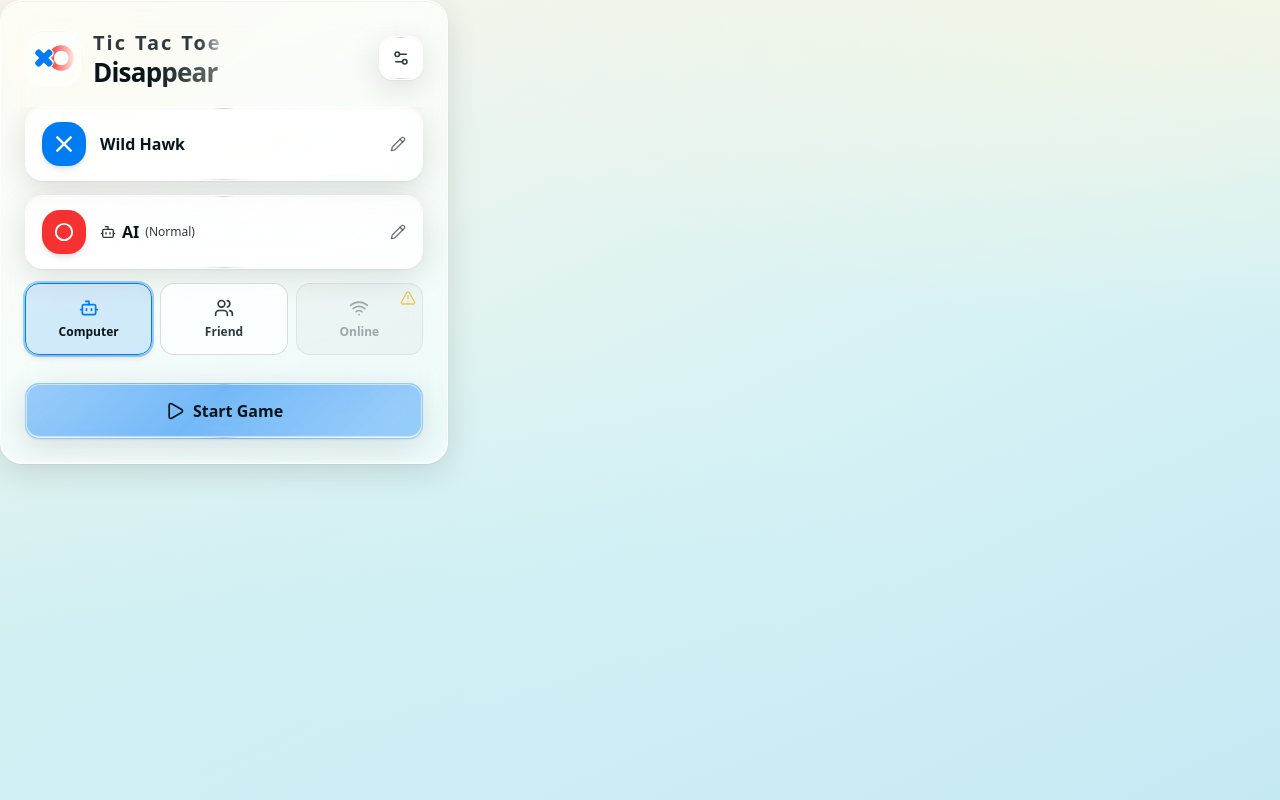
LobbyForm without a matchmaking backend (production build) › marks the Online tile unavailable and explains it only when tapped
The width and height of the screenshot is (1280, 800).
Expected: the text "Online mode isn't available in this build." is not shown
Click the radio button labelled "Online": [359, 319] box 296,283 -> 423,355
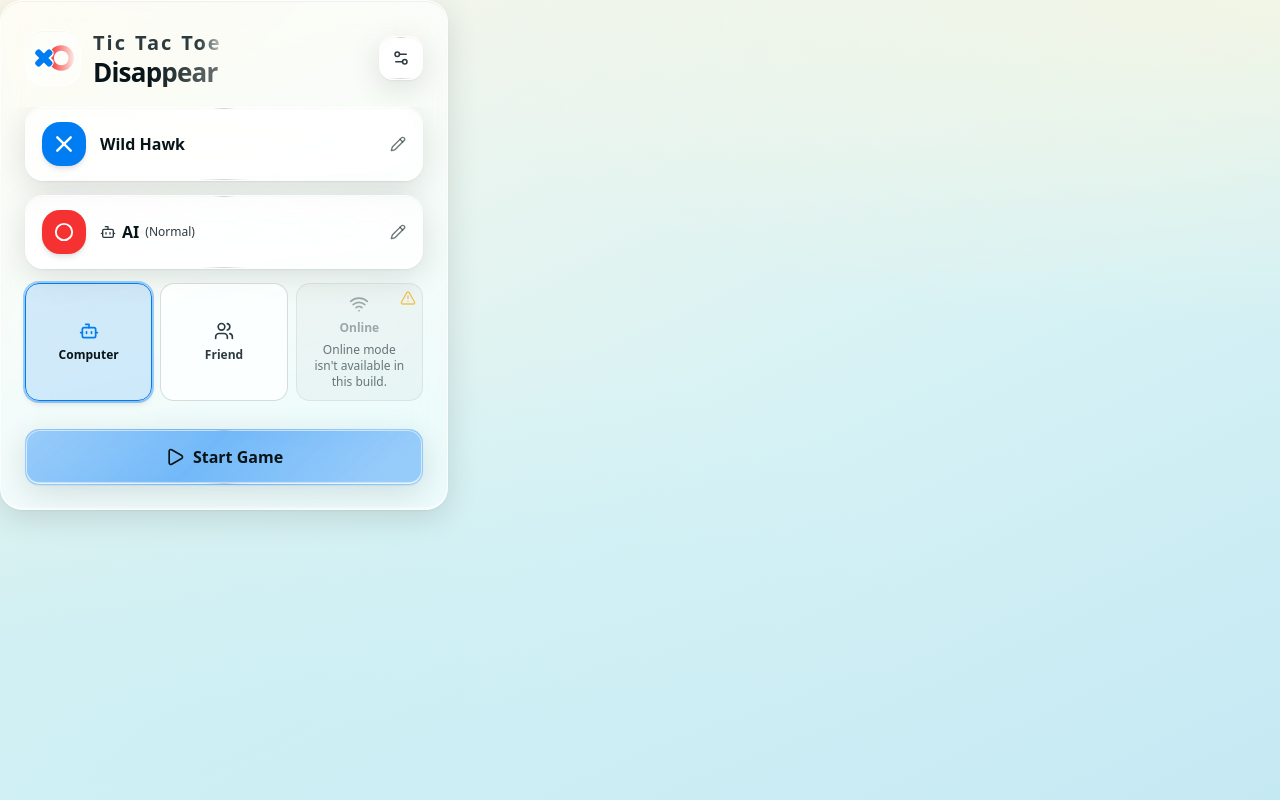
Now the text "Online mode isn't available in this build." is shown, box 307,342 -> 412,390
